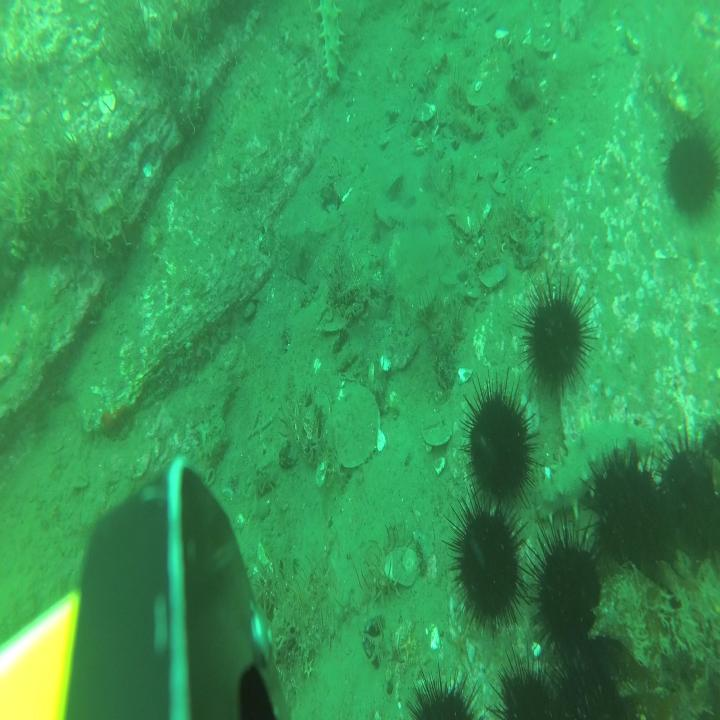echinus: (444, 485, 530, 636), (528, 511, 610, 664), (584, 445, 666, 587), (513, 265, 598, 401), (462, 368, 540, 515), (654, 421, 716, 575), (550, 644, 634, 720), (663, 116, 720, 226), (488, 644, 554, 720), (404, 668, 480, 720)
holothurian: (533, 418, 654, 523), (314, 0, 346, 84)
scallop: (334, 385, 380, 467), (384, 544, 420, 588), (422, 415, 451, 446)
